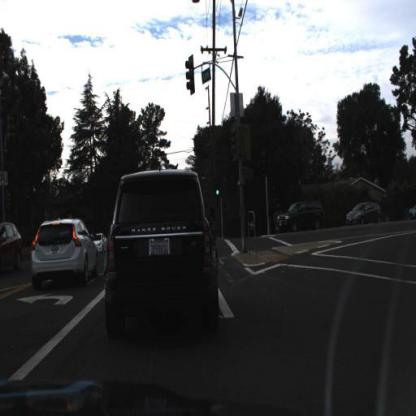car: (105, 170, 221, 338), (30, 213, 100, 290), (277, 198, 328, 235), (1, 220, 26, 278), (346, 200, 385, 227), (90, 230, 109, 254)
trafficLight-Green: (214, 174, 223, 199)
